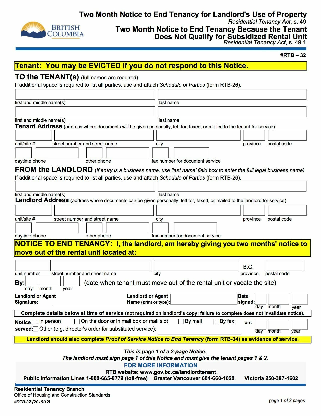checkbox: (32, 318, 39, 326), (178, 317, 185, 325), (32, 326, 39, 333), (214, 318, 220, 326), (74, 318, 80, 325)
textbox: (157, 104, 308, 120), (157, 87, 308, 102), (157, 179, 308, 193), (14, 105, 157, 118), (14, 180, 157, 193), (15, 88, 156, 101), (51, 258, 153, 274), (53, 128, 155, 143), (53, 203, 155, 218), (153, 258, 240, 274), (156, 203, 242, 219), (154, 128, 242, 142), (169, 292, 240, 306), (34, 146, 80, 160), (35, 221, 81, 235), (267, 203, 309, 218), (173, 220, 218, 234), (264, 258, 306, 273), (267, 128, 308, 143), (105, 146, 151, 159), (105, 221, 150, 234), (14, 129, 53, 142), (172, 146, 211, 159), (14, 204, 53, 217), (14, 259, 52, 272), (267, 291, 291, 306), (242, 128, 267, 142), (267, 317, 291, 331), (243, 203, 266, 217), (290, 291, 311, 306), (84, 146, 105, 160), (38, 275, 61, 287), (14, 221, 33, 235), (151, 221, 170, 235), (290, 317, 309, 331), (14, 146, 33, 159), (151, 146, 170, 159), (85, 222, 104, 234), (62, 275, 81, 287), (254, 292, 269, 306), (24, 275, 39, 288), (253, 318, 268, 331)
textline: (157, 325, 243, 335), (52, 297, 127, 307)
